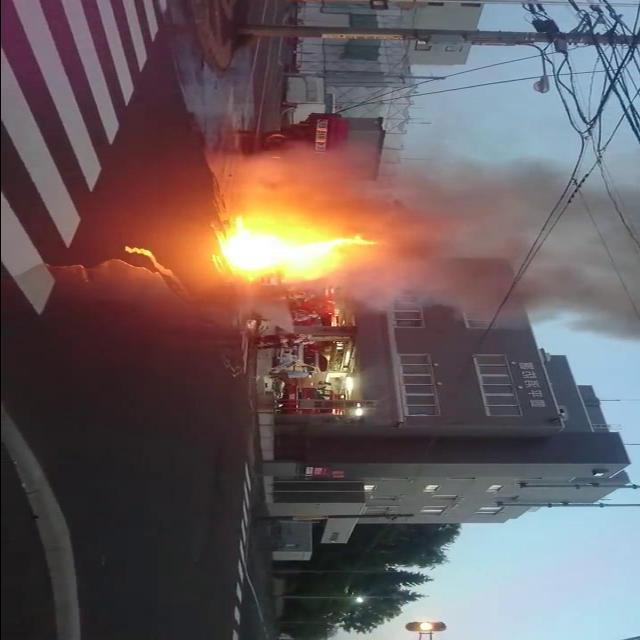Fire: (222, 218, 370, 286)
